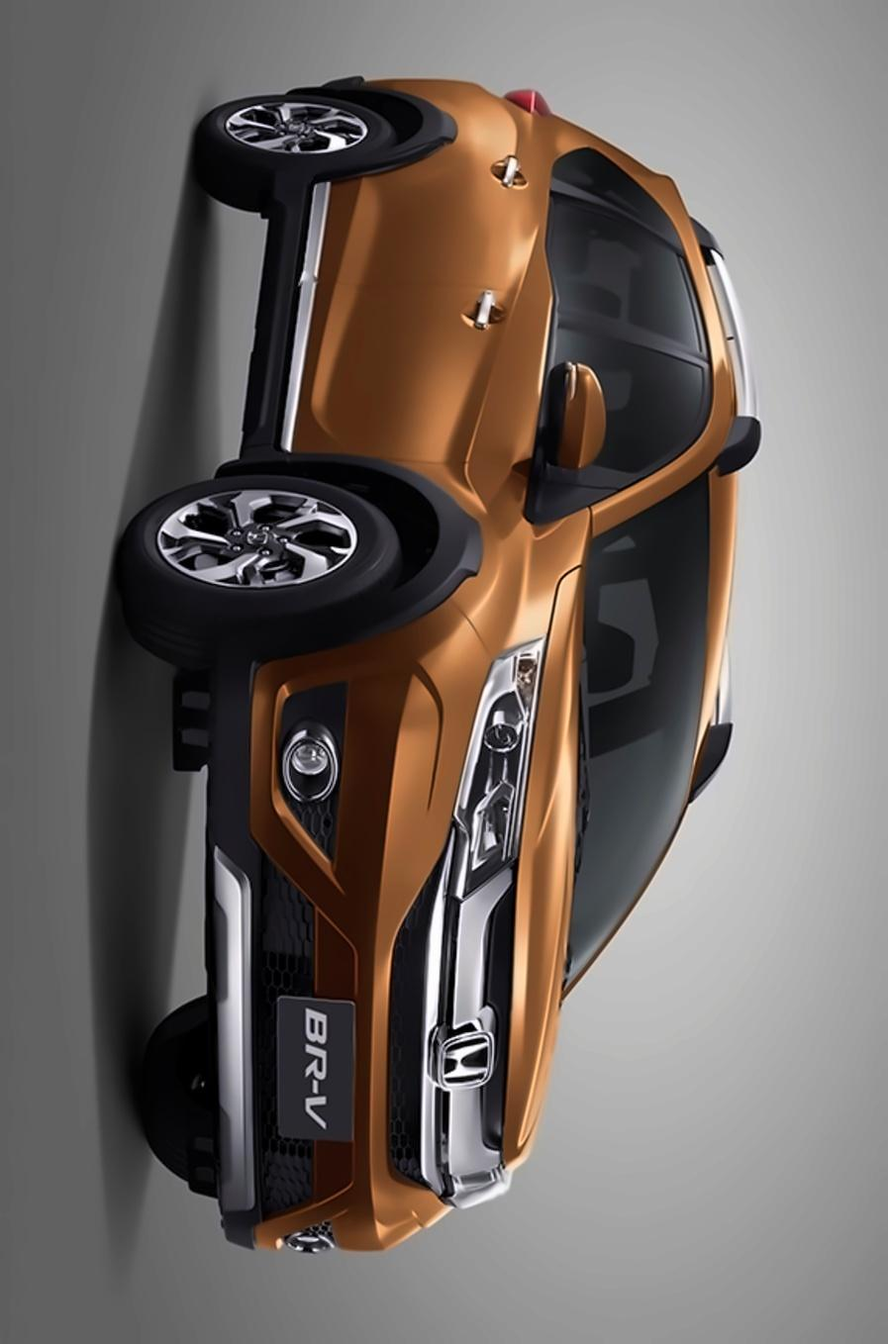Car hood: (501, 562, 582, 1165)
Driver-s door - -F-R-: (232, 275, 758, 489)
Fender - -F-R-: (216, 434, 603, 669)
Fender - -R-R-: (321, 70, 667, 187)
Front bumper: (186, 602, 494, 1267)
Headlight - -R-: (448, 630, 552, 901)
Passenger-s door - -R-R-: (254, 152, 771, 352)
Rear light - -R-: (499, 79, 556, 125)
Side bumper - -R-: (236, 171, 371, 465)
Side mirror - -R-: (523, 351, 632, 497)
